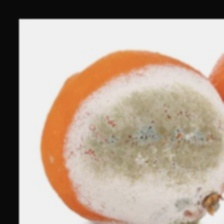orange: (11, 0, 193, 196)
